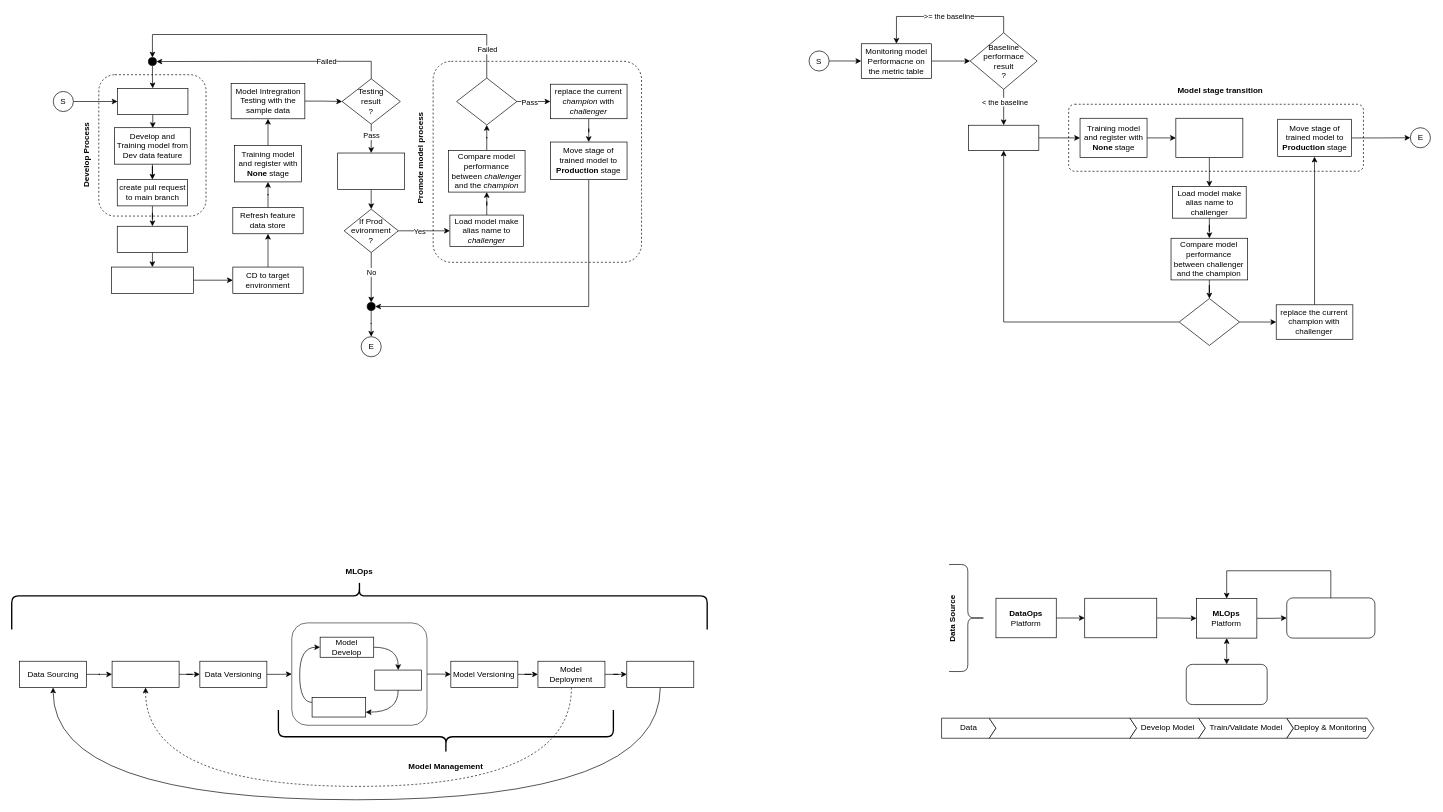
Some shapes in this 1443 by 812 pixel diagram are drawn without their labels. Here are the shapes that lost their labels. From the top down, the box of each, then its label:
(117, 88, 188, 115): Create feature branch from main
(456, 77, 517, 125): Compare result ?
(968, 125, 1039, 151): Refresh feature data
(1175, 118, 1243, 158): Adjust model stage to Staging stage
(337, 152, 405, 189): Move stage of trained model to Staging stage
(117, 226, 188, 253): Run functional testing
(111, 266, 193, 293): CI and Push the code to artifact server
(1179, 298, 1240, 345): Compare result status ?
(11, 580, 708, 630): Experiment Tracking
(1084, 598, 1157, 638): Data/Feature Versioning
(1286, 597, 1375, 638): Model Repo, Serving & Monitoring
(111, 661, 179, 687): Data Labeling
(374, 669, 422, 690): Model Training
(626, 661, 694, 687): Model Serving & Monitoring
(1186, 664, 1267, 705): Model Training & Model Validation
(311, 697, 366, 717): Model Evaluation
(989, 718, 1137, 738): Develop/Test Feature Pipelines
